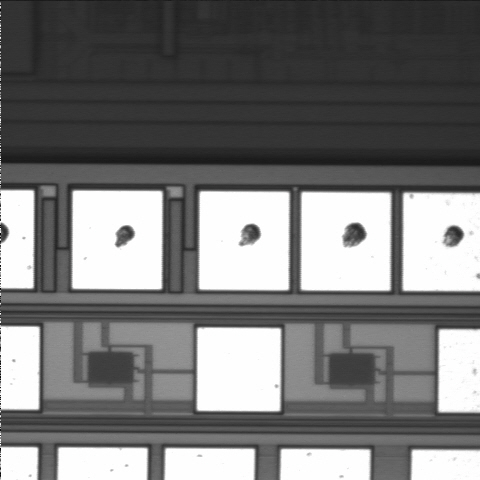pad: (199, 191, 289, 290), (301, 192, 391, 291), (72, 191, 162, 289), (197, 328, 281, 411)
